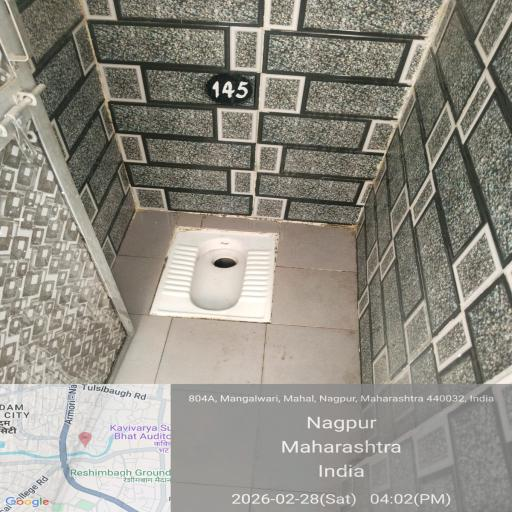clean_floor: (55, 0, 512, 241), (48, 352, 427, 512)
clean_indian: (125, 239, 296, 335)
